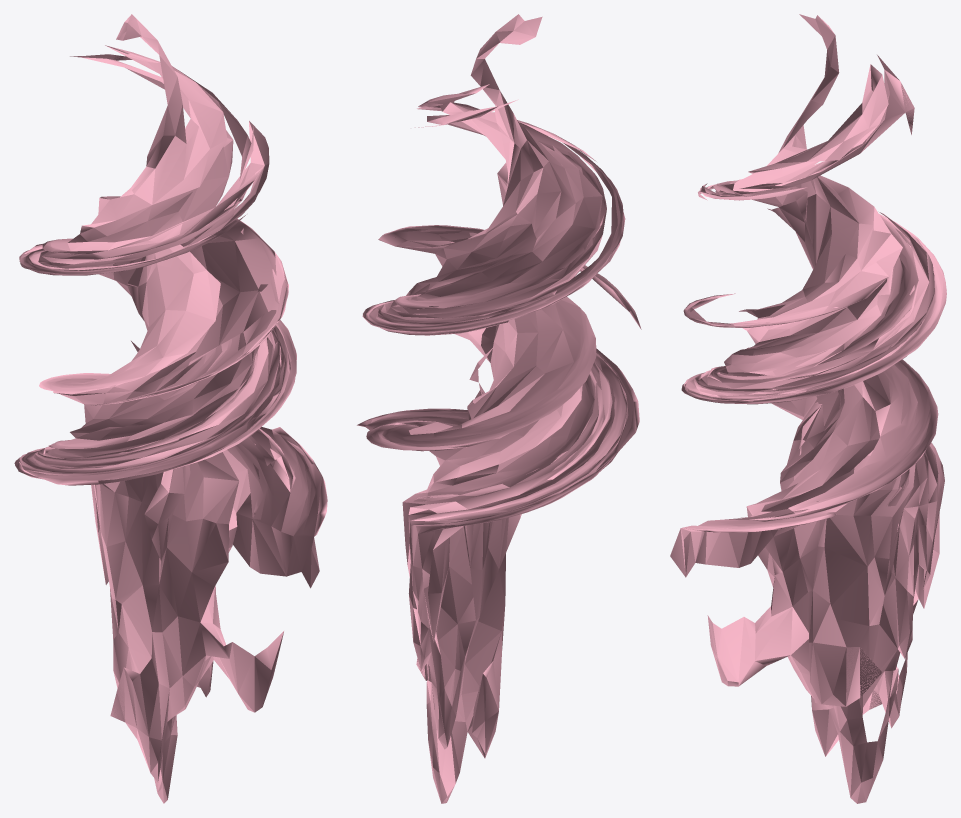
Rendered from swirl2.gltf.
3 renders of one model, left to right at view 1: azimuth 30°, elevation 25°; view 2: azimuth 150°, elevation 25°; view 3: azimuth 270°, elevation 25°, orthographic. The views are drawn at different scales.
Parts seen in each view (by area): view 1: Polygon_Reduction; view 2: Polygon_Reduction; view 3: Polygon_Reduction.
Boxes of the visible parts, x1,y1,x2,y2 form: Polygon_Reduction: (14, 14, 327, 803); Polygon_Reduction: (357, 14, 641, 803); Polygon_Reduction: (670, 14, 946, 803).
Bounding box in the file's own units: 4.51 × 13.49 × 4.43.
